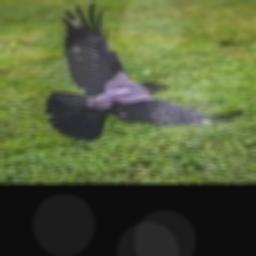Crow: (45, 2, 245, 140)
